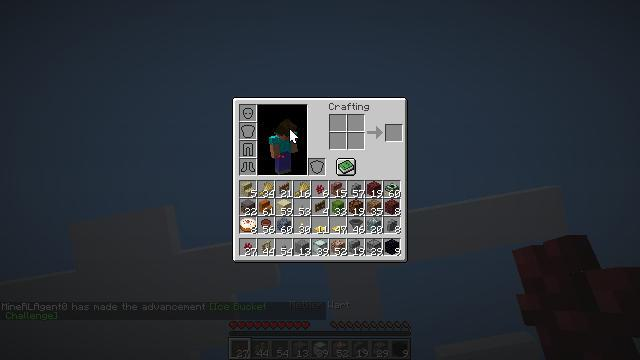cursor: (128, 289, 144, 299)
